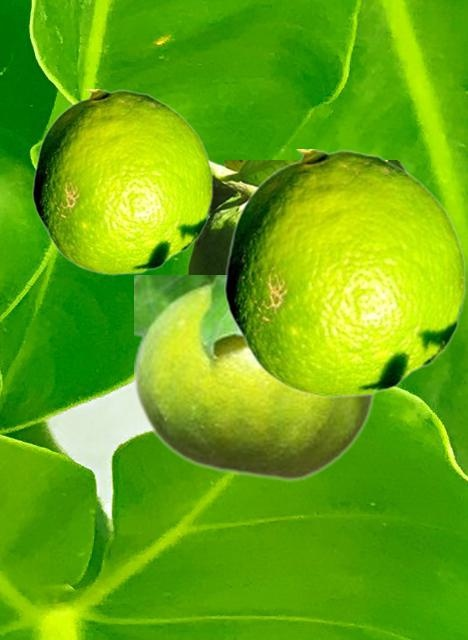dalandan: (224, 149, 465, 397), (134, 275, 375, 481), (32, 89, 212, 274), (186, 160, 409, 274)
